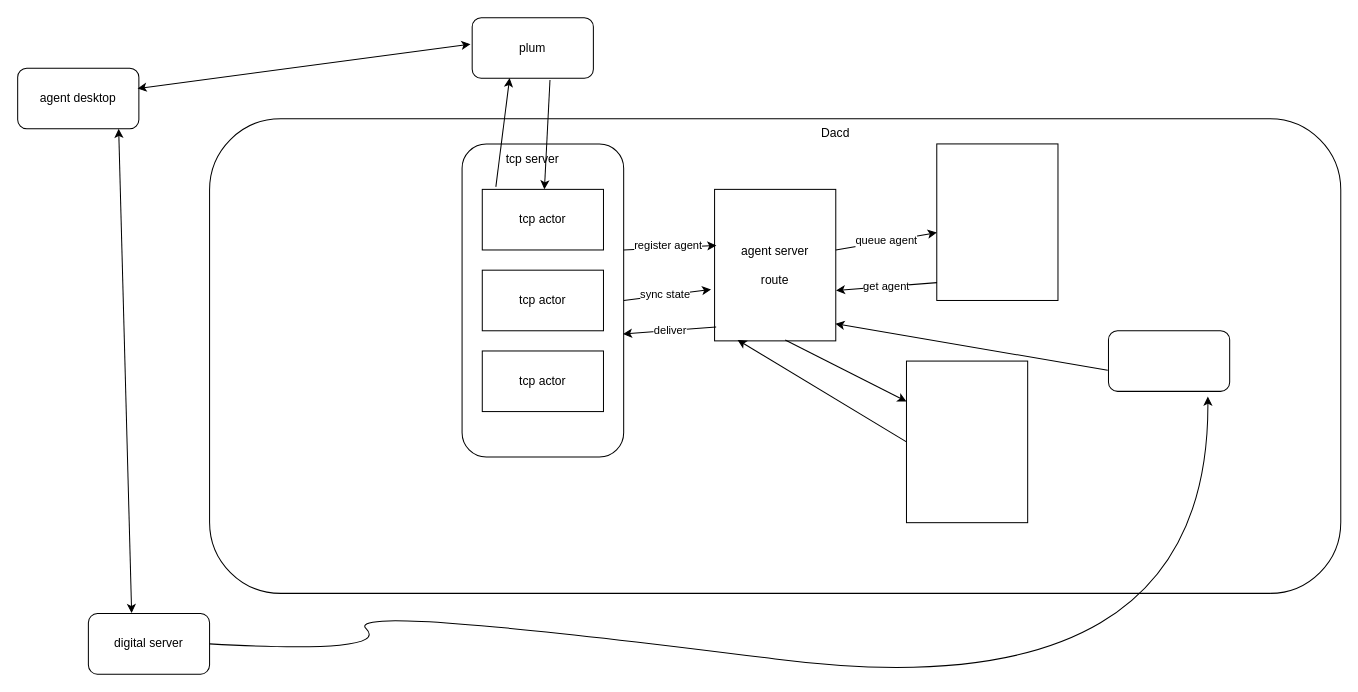
This 1358x692 diagram has some shape labels left out. The centre of each missing label's shape, as x and y in pixels:
agent priority: (997,221)
chatting queue: (966,441)
grpc service: (1168,360)
